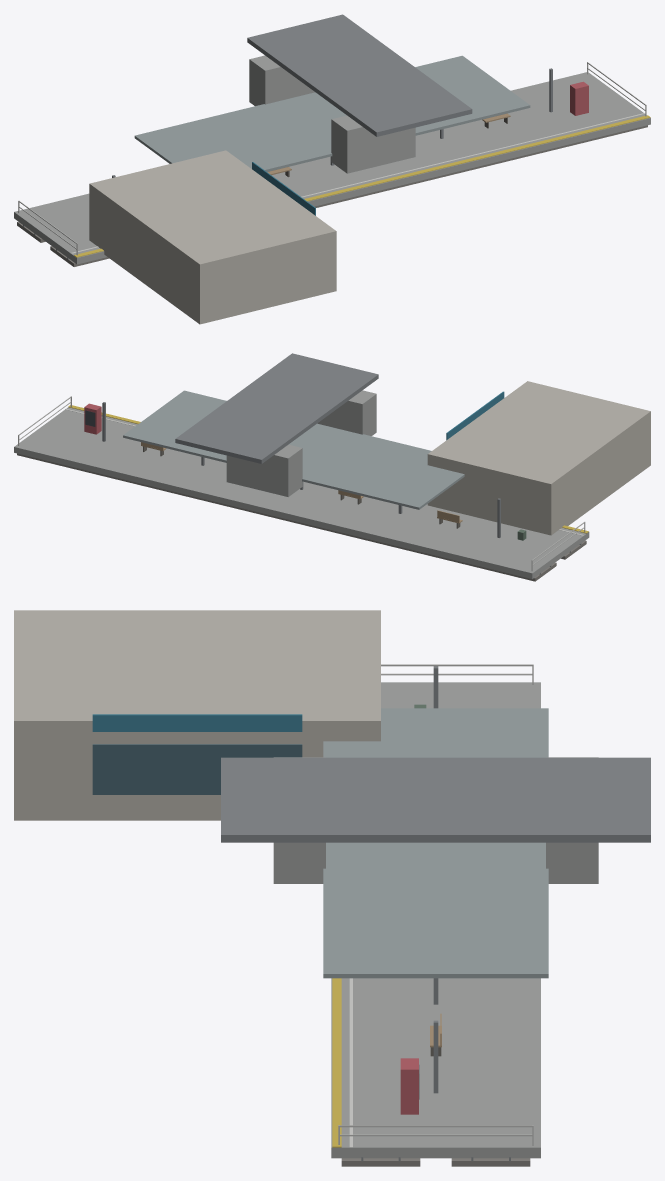
File: station_island_platform.glb
3 views of the same model, one above another, from view 1: azimuth 30°, elevation 25°; view 2: azimuth 150°, elevation 25°; view 3: azimuth 270°, elevation 25° (orthographic). The views are drawn at different scales.
Visible parts, largest first — view 1: station_main_building, platform_0, canopy_roof_0, footbridge_deck, footbridge_stair_5.2, footbridge_stair_-5.2, tactile_strip_0, trackbed_1, white_line_0_0, vending_0_body, station_sign; view 2: station_main_building, platform_0, canopy_roof_0, footbridge_deck, footbridge_stair_-5.2, footbridge_stair_5.2, trackbed_0, station_sign, vending_0_body; view 3: station_main_building, canopy_roof_0, platform_0, footbridge_deck, station_glazing, station_sign, footbridge_stair_-5.2, footbridge_stair_5.2, tactile_strip_0, vending_0_body.
Part boxes in pixels (box(x1,y1,x2,y2)): station_main_building: box(89, 150, 336, 324); platform_0: box(14, 72, 650, 264); canopy_roof_0: box(134, 55, 530, 171); footbridge_deck: box(247, 14, 472, 136); footbridge_stair_5.2: box(331, 115, 415, 173); footbridge_stair_-5.2: box(249, 55, 314, 105); tactile_strip_0: box(74, 115, 650, 257); trackbed_1: box(50, 125, 647, 266); white_line_0_0: box(71, 113, 644, 253); vending_0_body: box(570, 81, 588, 115); station_sign: box(252, 162, 315, 215); station_main_building: box(427, 381, 650, 535); platform_0: box(14, 407, 589, 579); canopy_roof_0: box(123, 390, 464, 509); footbridge_deck: box(175, 353, 378, 463); footbridge_stair_-5.2: box(226, 444, 302, 496); footbridge_stair_5.2: box(317, 390, 376, 435); trackbed_0: box(17, 453, 556, 581); station_sign: box(446, 391, 504, 440); vending_0_body: box(84, 403, 101, 434); station_main_building: box(14, 610, 380, 820); canopy_roof_0: box(323, 708, 548, 978); platform_0: box(331, 682, 540, 1158); footbridge_deck: box(221, 757, 650, 842); station_glazing: box(92, 744, 302, 794); station_sign: box(92, 714, 302, 731); footbridge_stair_-5.2: box(546, 757, 598, 883); footbridge_stair_5.2: box(273, 757, 325, 883); tactile_strip_0: box(332, 978, 341, 1147); vending_0_body: box(400, 1058, 418, 1114).
Bounding box in the file's own units: 42 × 6.73 × 24.3.
